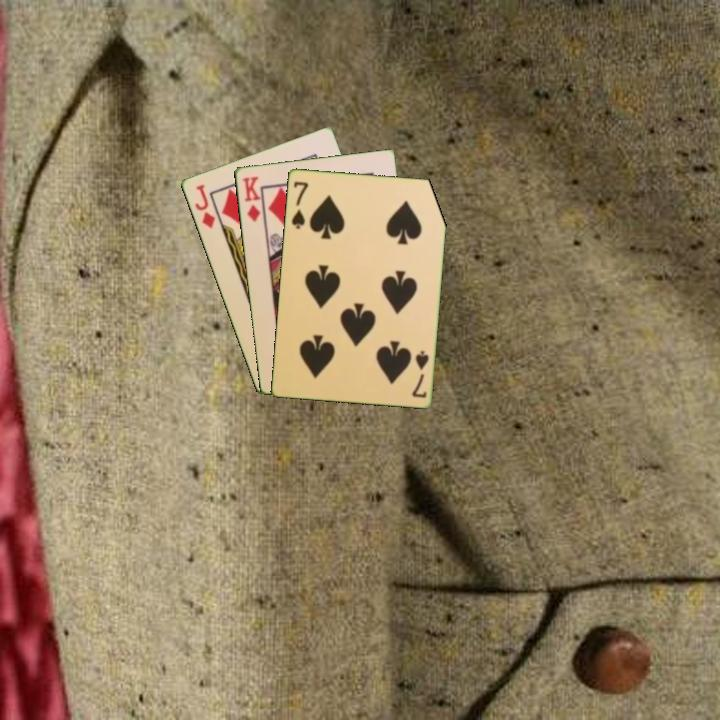7s: (288, 178, 311, 231), (408, 347, 431, 400)
Jd: (191, 180, 218, 232)
Kd: (238, 173, 263, 224)
